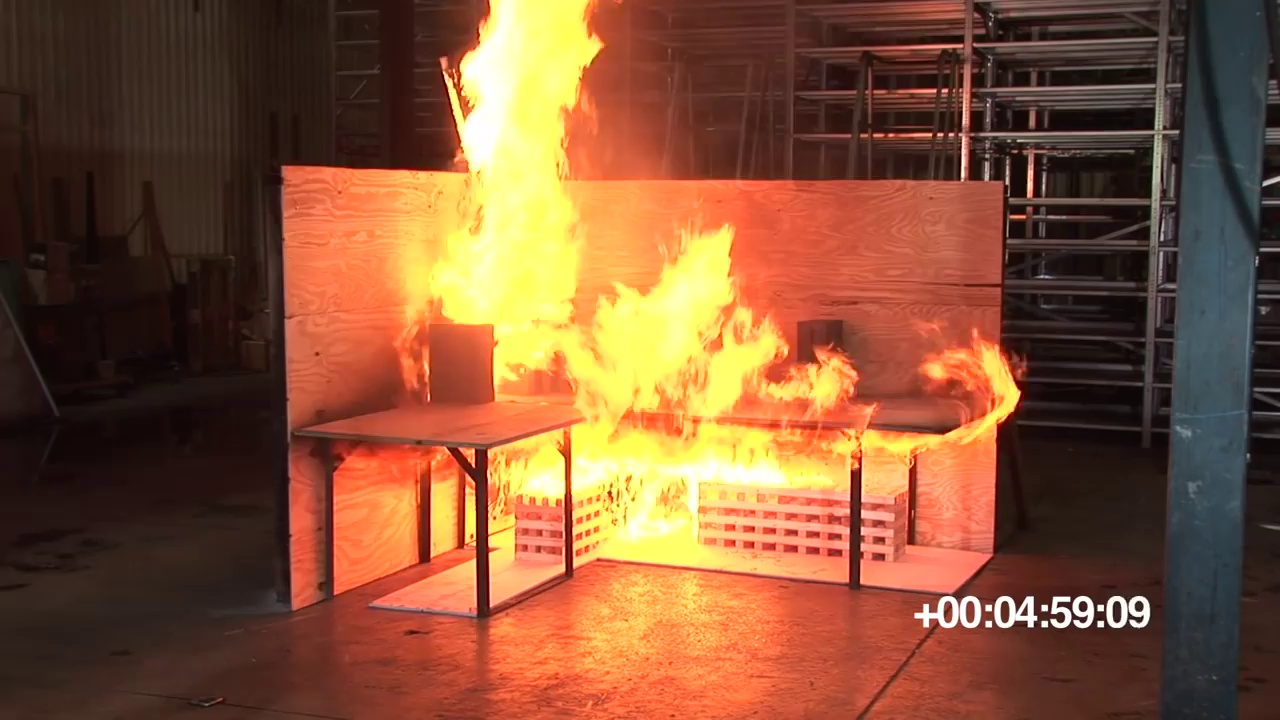fire: (397, 1, 597, 406), (593, 233, 854, 477), (917, 340, 1023, 435)
